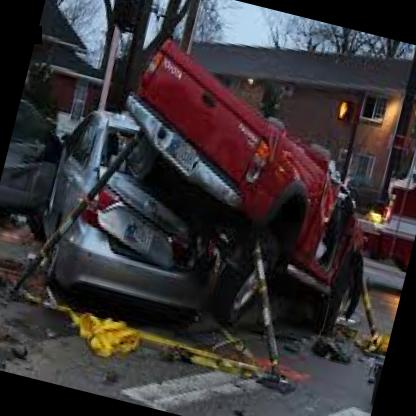accident: (24, 11, 416, 411)
